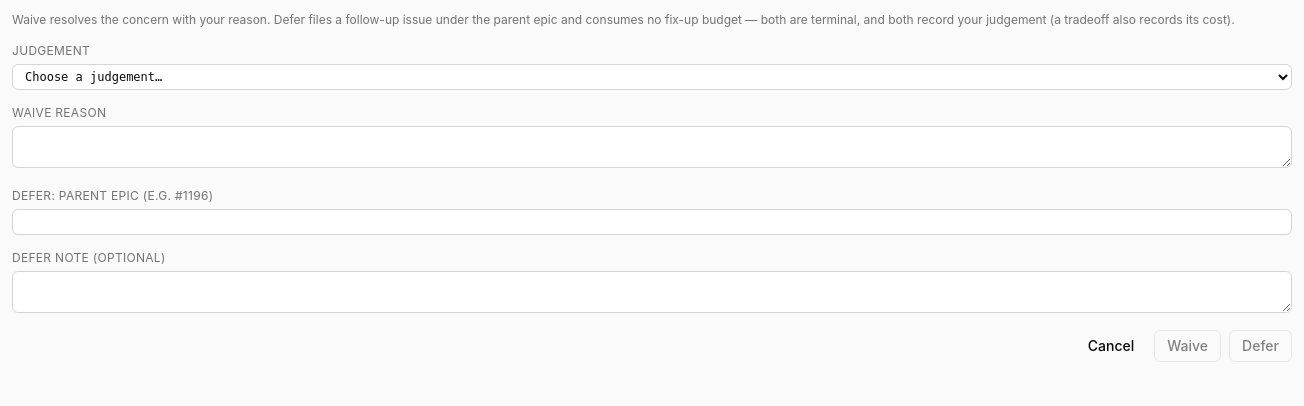
DecisionPanel — judgement gate (E94.7 / #4840) › a 400 judgement refusal (e.g. a contradicting reason prefix) surfaces, no resolve
The width and height of the screenshot is (1304, 406).
Select "defect — a real defect in this change" in the dropdown labelled "Judgement": (652,77) top-left (12, 64), bottom-right (1292, 90)
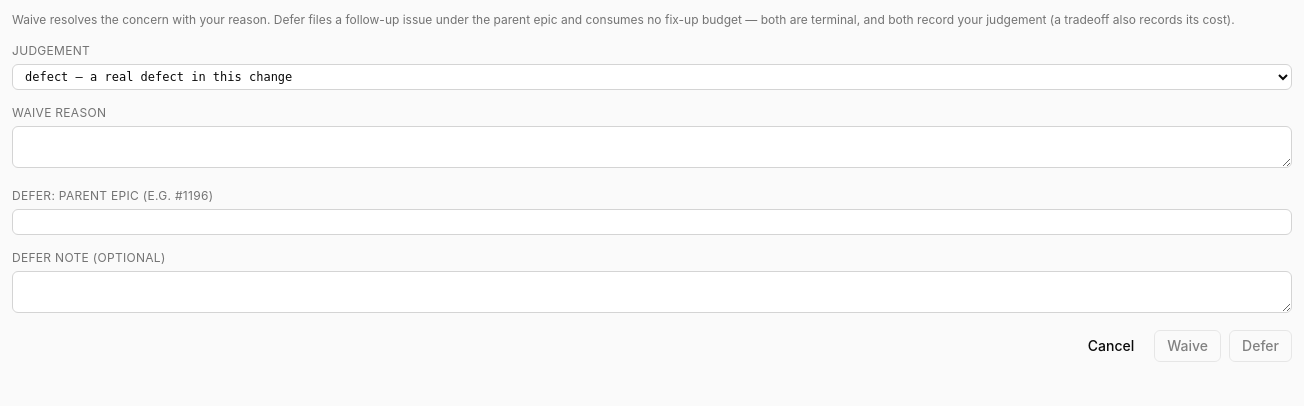
In the text box labelled "Waive reason": (652,147) top-left (12, 126), bottom-right (1292, 168), type "false_positive: not reachable"
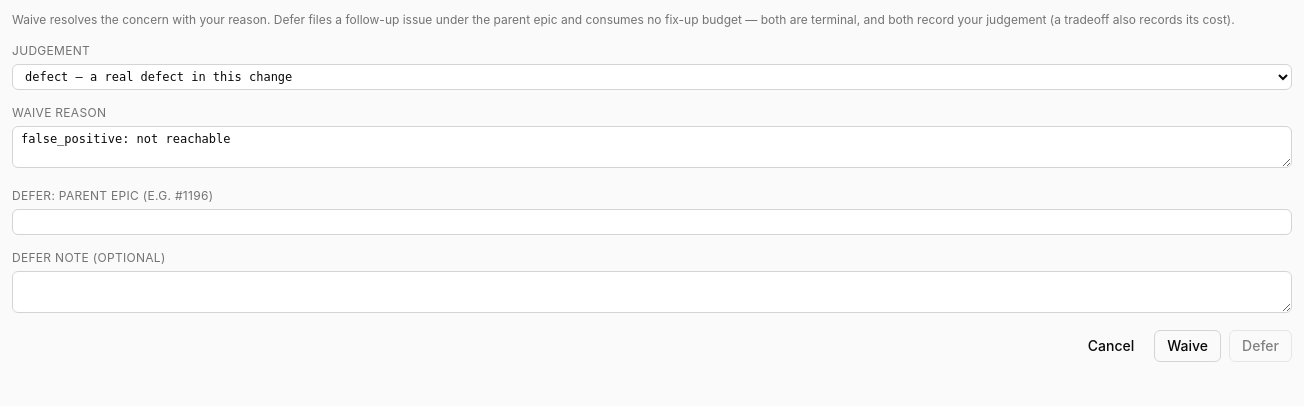
Click the button "Waive": (1188,346) top-left (1154, 330), bottom-right (1221, 362)
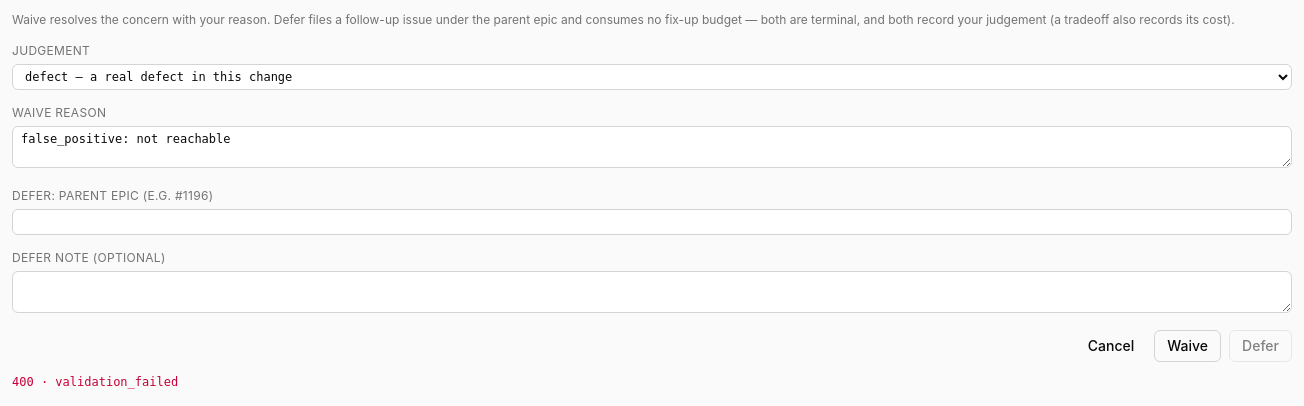
Check: the message reads "400 · validation_failed", box top-left (12, 375), bottom-right (178, 389)
